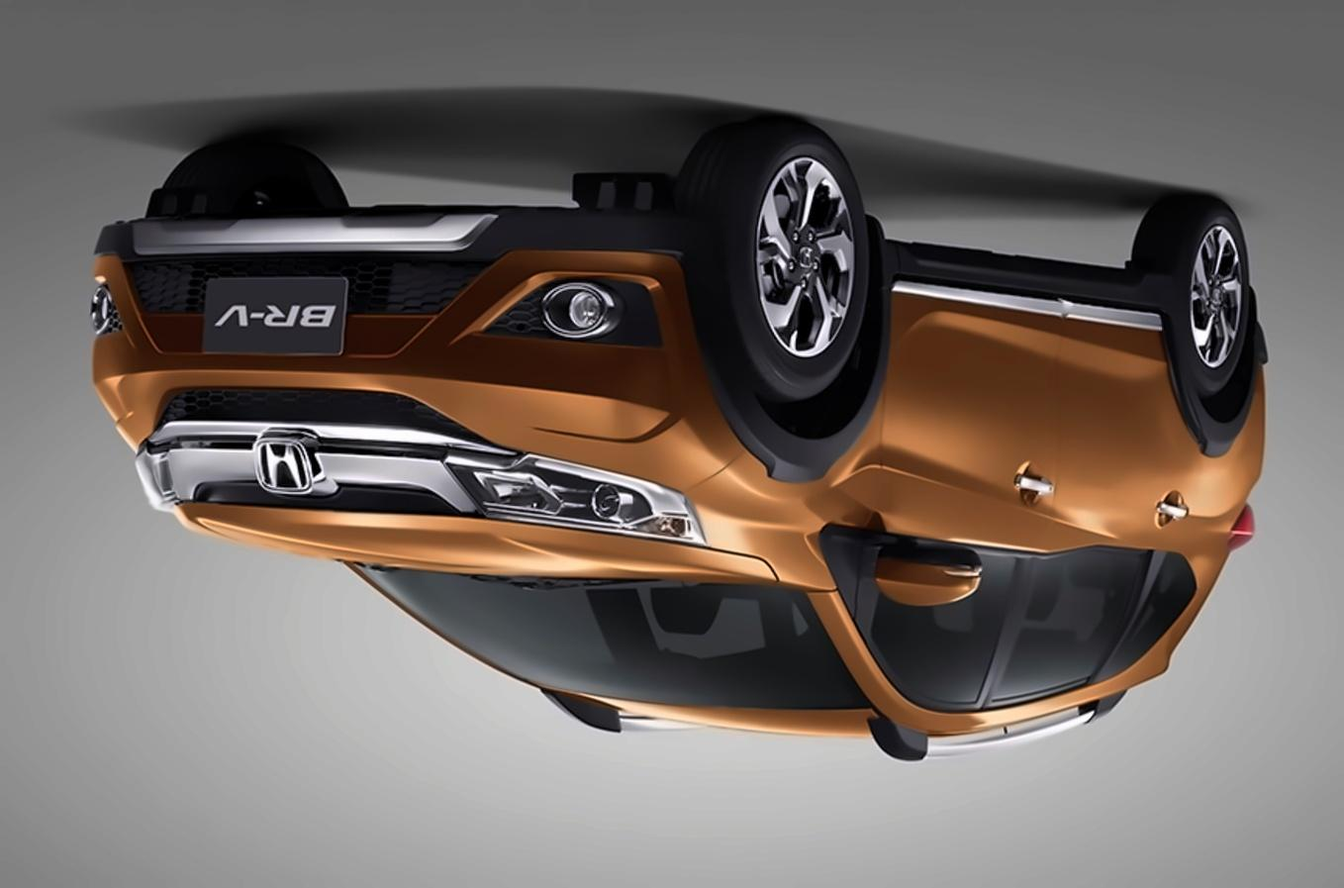Car hood: (154, 503, 782, 593)
Driver-s door - -F-R-: (864, 296, 1059, 735)
Fender - -F-R-: (681, 244, 893, 597)
Fender - -R-R-: (1182, 401, 1256, 548)
Front bumper: (83, 208, 746, 443)
Headlight - -L-: (124, 434, 188, 515)
Headlight - -R-: (432, 436, 713, 552)
Passenger-s door - -R-R-: (1037, 310, 1194, 712)
Rear bumper: (1234, 274, 1304, 423)
Rear light - -R-: (1218, 489, 1269, 557)
Side bumper - -R-: (876, 234, 1164, 336)
Side mirror - -R-: (868, 533, 993, 623)
